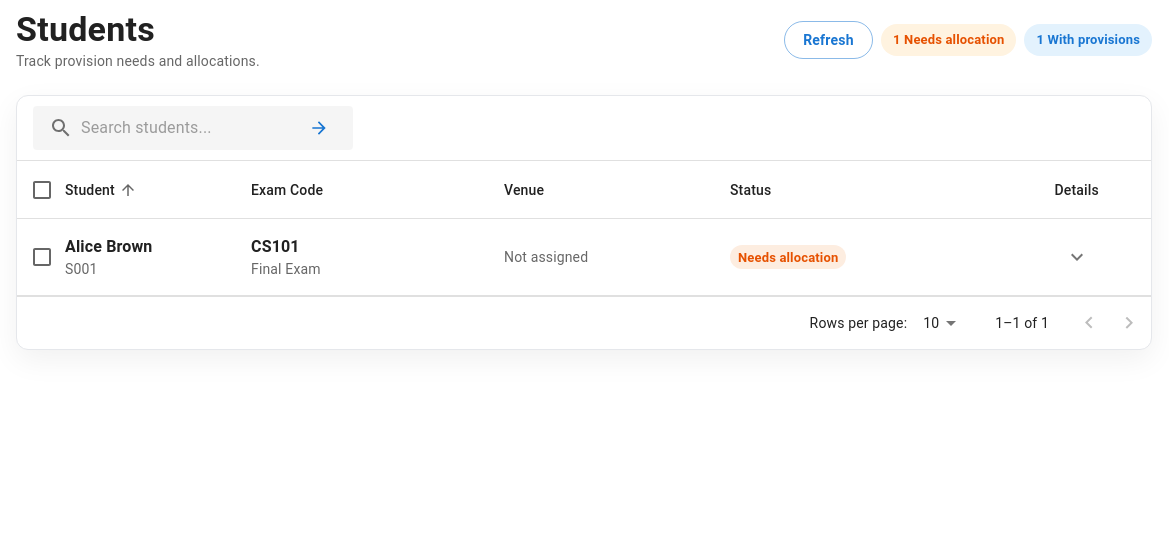
AdminStudents › expands student row and shows details
The image size is (1169, 534).
Click the button named "expand details" at (1077,257), box x1=1057 y1=237 x2=1097 y2=277
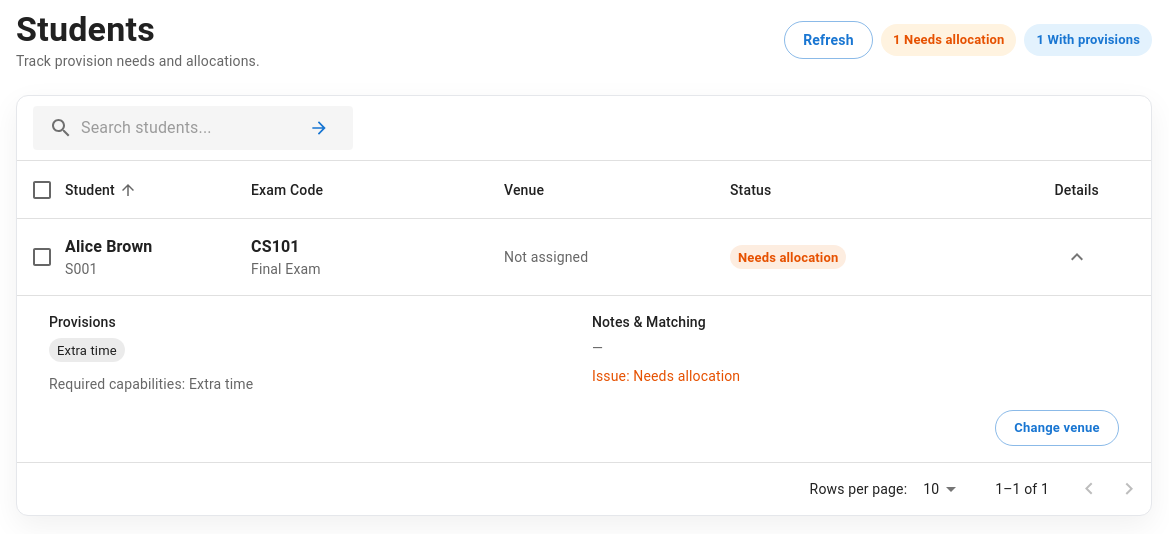
Now the text "Required capabilities: Extra time" is shown, box x1=49 y1=376 x2=253 y2=392
Now the button "Change venue" is enabled, box x1=995 y1=410 x2=1119 y2=446
